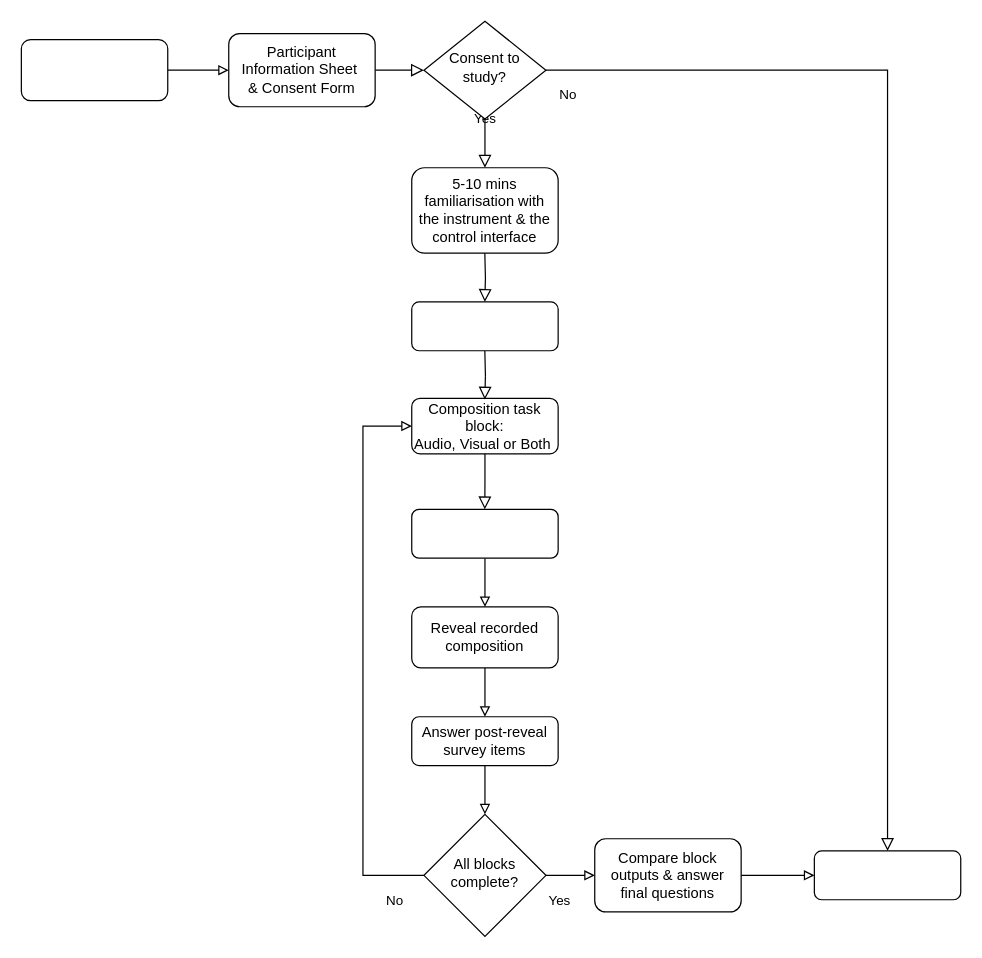
The diagram is 982 pixels wide and 958 high, and some of its shapes have lost their labels. Each missing label, with the box of its shape:
Answer pre-reveal survey items: (411, 508, 558, 558)
Block order randomisation: (411, 301, 558, 351)
Convenience recruitment & scheduling: (20, 38, 168, 101)
End of session: (813, 850, 961, 900)
